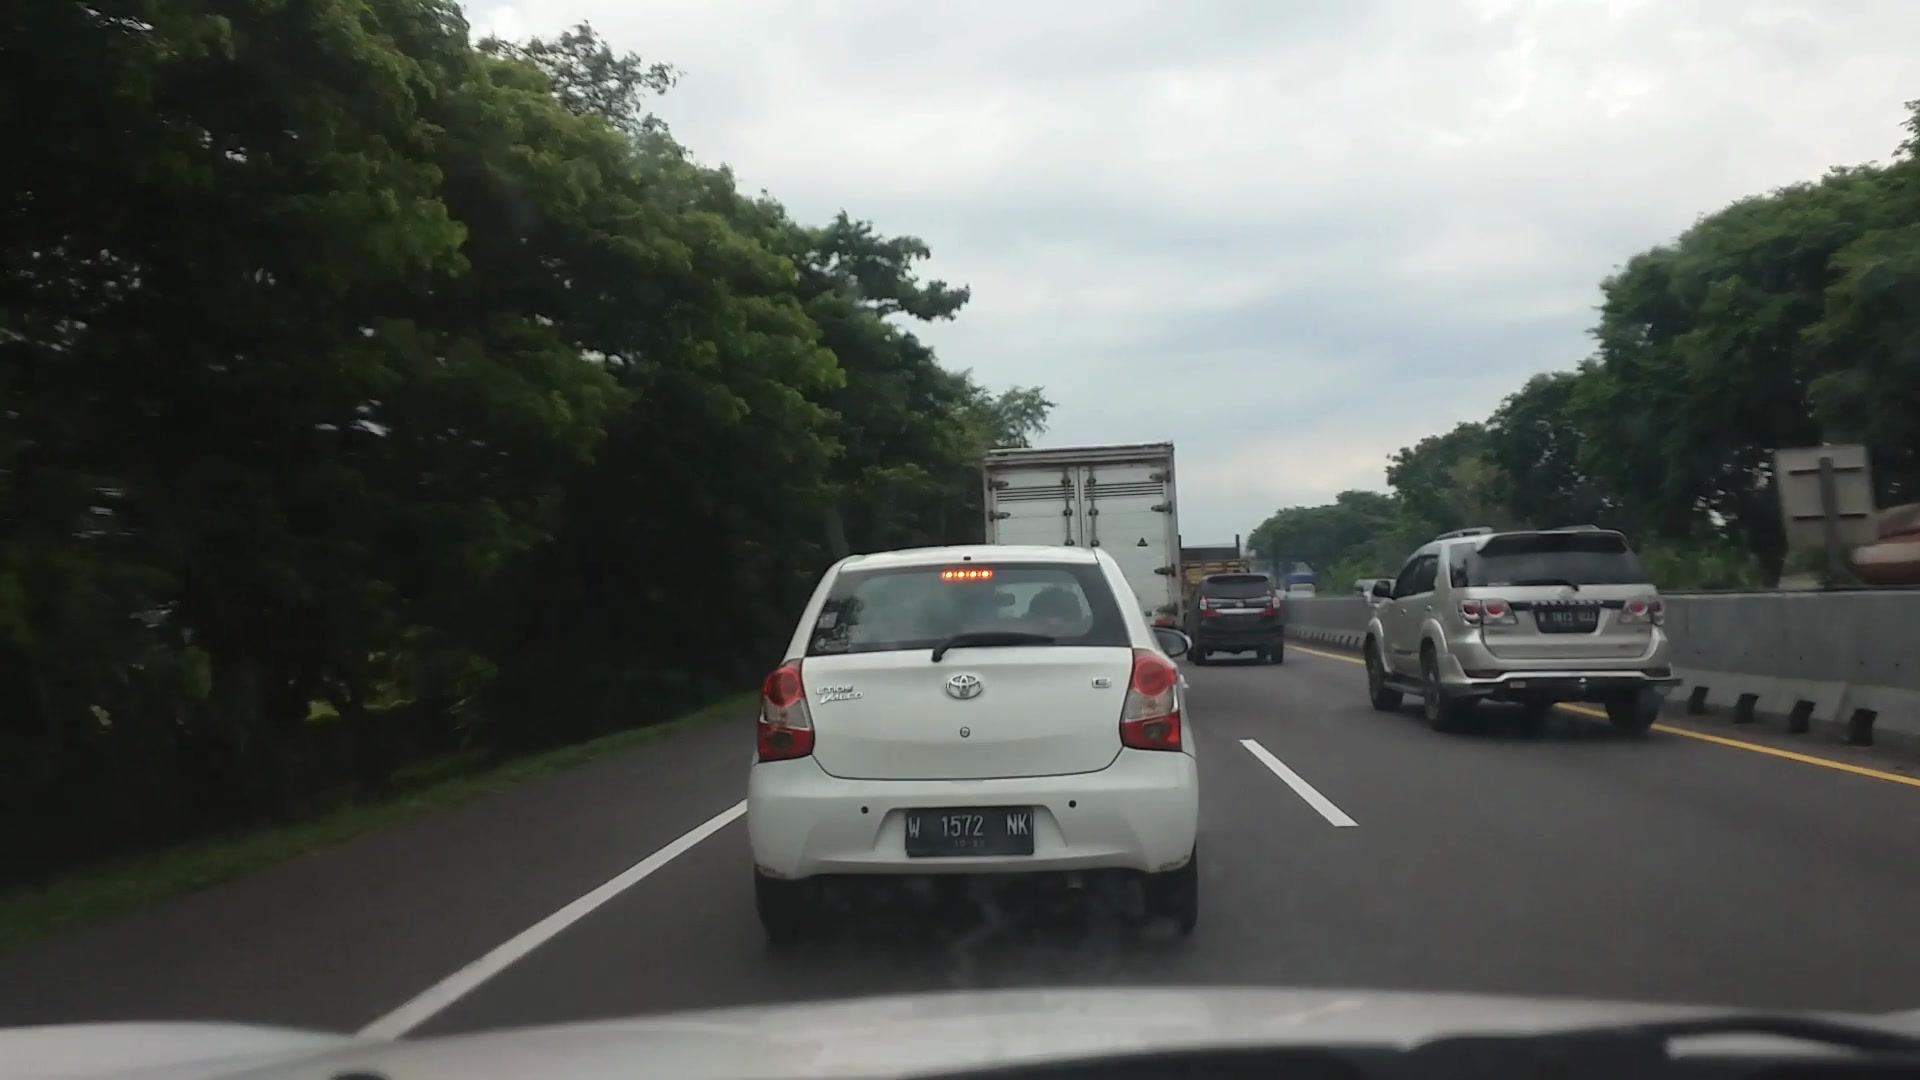plate_positive: (905, 804, 1034, 858), (1538, 608, 1597, 628)
